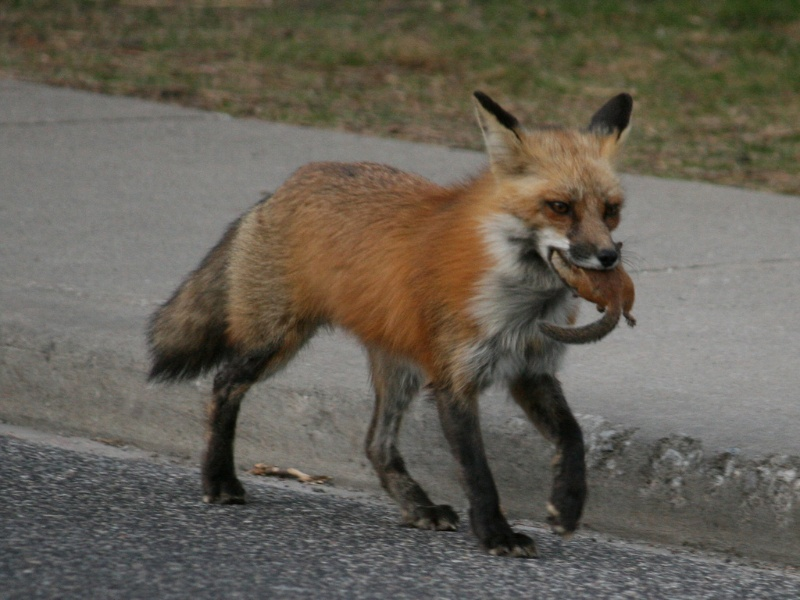fox: (145, 84, 643, 563)
